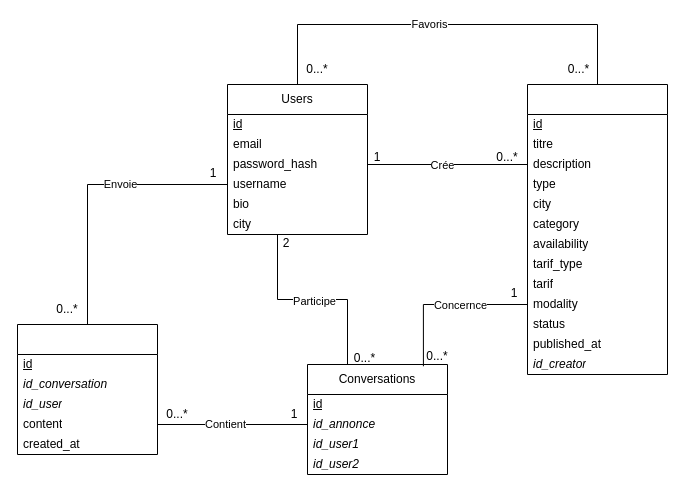
This 685x492 diagram has some shape labels left out. The box of each missing label's shape, as (x1, y1, x2, y2) in pixels:
Annonces: (526, 84, 668, 374)
Messages: (16, 324, 158, 454)
